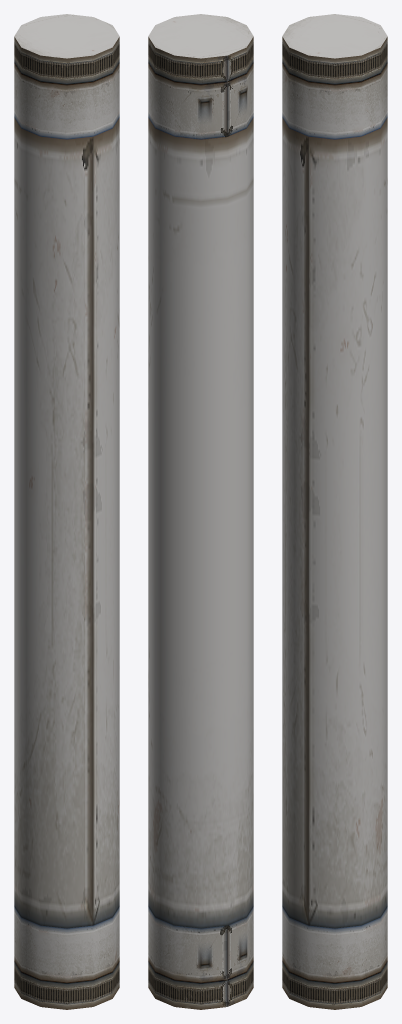
Rendered from scifi_pipe_small_2.FBX.
3 views of the same model, side by side, from view 1: azimuth 30°, elevation 25°; view 2: azimuth 210°, elevation 25°; view 3: azimuth 330°, elevation 25° (orthographic).
Visible parts, largest first — view 1: Cylinder024; view 2: Cylinder024; view 3: Cylinder024.
Boxes of the visible parts, bbox=[...] form: Cylinder024: bbox=[14, 14, 119, 1009]; Cylinder024: bbox=[148, 14, 253, 1009]; Cylinder024: bbox=[282, 14, 387, 1009].
Bounding box in the file's own units: 25.53 × 254 × 25.53.
